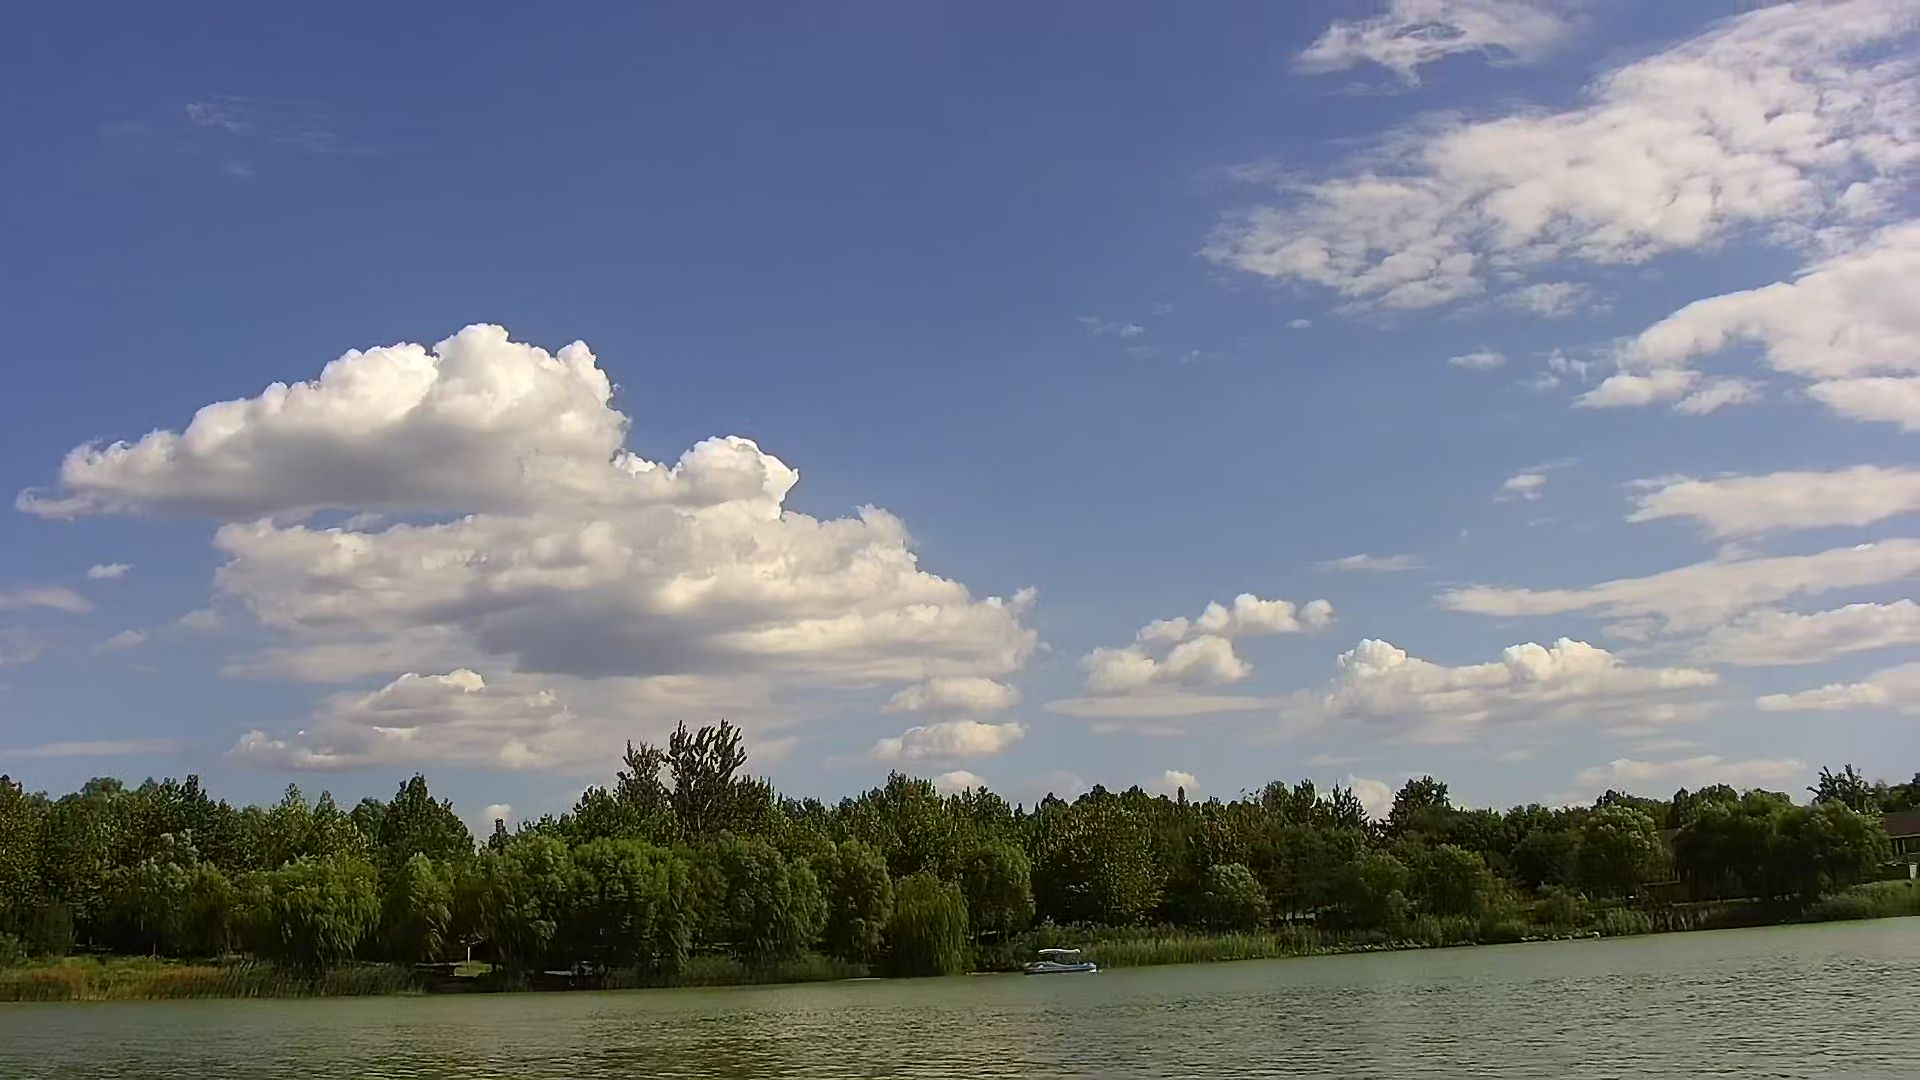boat: (1021, 942, 1105, 980)
